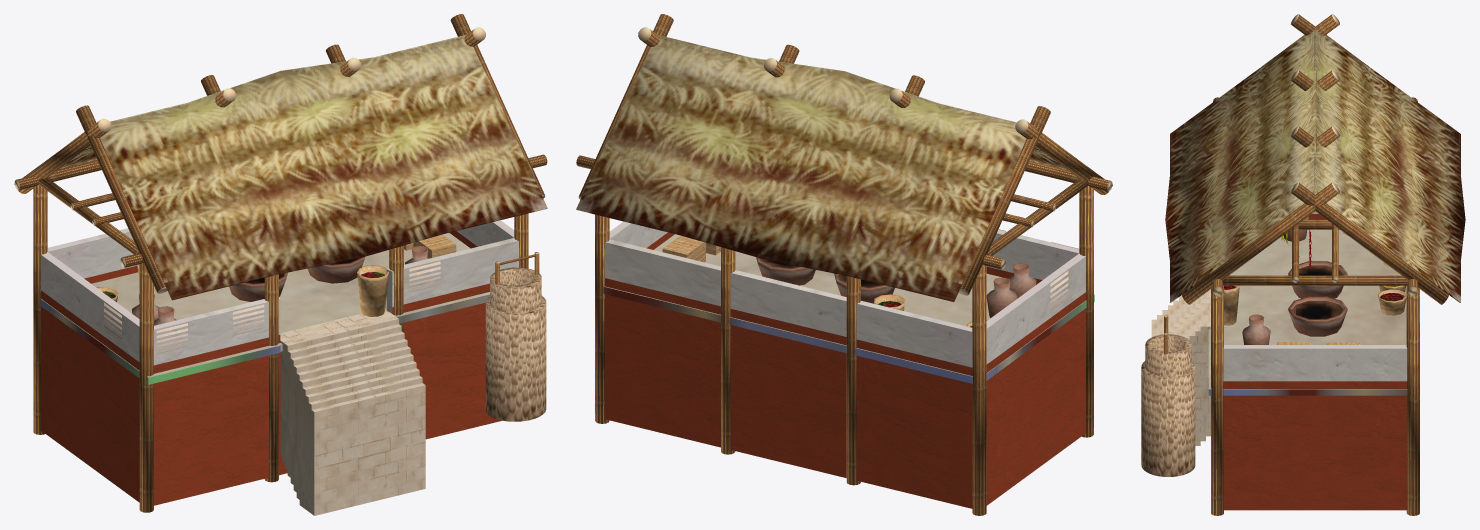
The model's file is maya_fazenda.dae.
3 views of the same model, side by side, from view 1: azimuth 30°, elevation 25°; view 2: azimuth 150°, elevation 25°; view 3: azimuth 270°, elevation 25° (orthographic). The views are drawn at different scales.
Parts seen in each view (by area): view 1: fazendanova; view 2: fazendanova; view 3: fazendanova.
Boxes of the visible parts, bbox=[...] form: fazendanova: bbox=[14, 14, 547, 515]; fazendanova: bbox=[576, 14, 1112, 515]; fazendanova: bbox=[1141, 14, 1465, 515].
Bounding box in the file's own units: 19.86 × 14.37 × 16.69.
